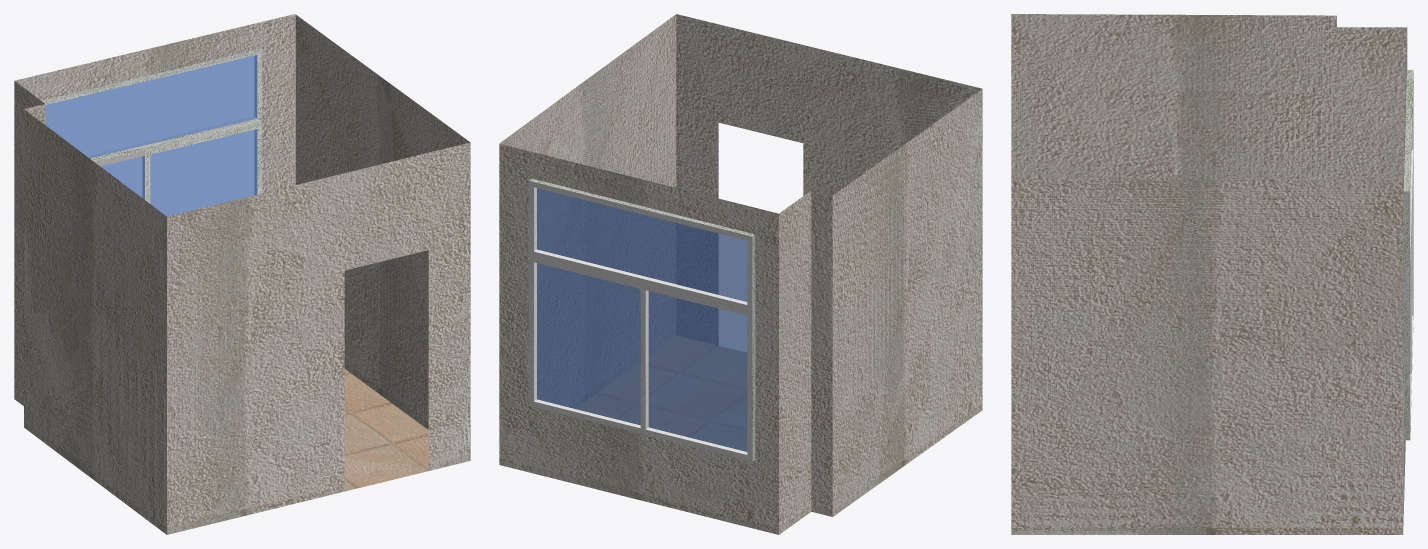
The model's file is DES019.obj.
3 views of the same model, side by side, from view 1: azimuth 30°, elevation 25°; view 2: azimuth 150°, elevation 25°; view 3: azimuth 270°, elevation 25° (orthographic). The views are drawn at different scales.
Visible parts, largest first — view 1: Mesh7 DES019 Model, Mesh1 ventana1_1_1 DES019 Model; view 2: Mesh7 DES019 Model, Mesh1 ventana1_1_1 DES019 Model; view 3: Mesh7 DES019 Model, Mesh1 ventana1_1_1 DES019 Model.
Boxes of the visible parts, box(x1,y1,x2,y2) form: Mesh7 DES019 Model: box(14, 14, 470, 534); Mesh1 ventana1_1_1 DES019 Model: box(41, 48, 262, 216); Mesh7 DES019 Model: box(499, 14, 982, 534); Mesh1 ventana1_1_1 DES019 Model: box(528, 178, 755, 461); Mesh7 DES019 Model: box(1011, 14, 1407, 534); Mesh1 ventana1_1_1 DES019 Model: box(1403, 70, 1413, 440).
Bounding box in the file's own units: 2.99 × 3 × 3.07.
8 materials, 3 textured.
